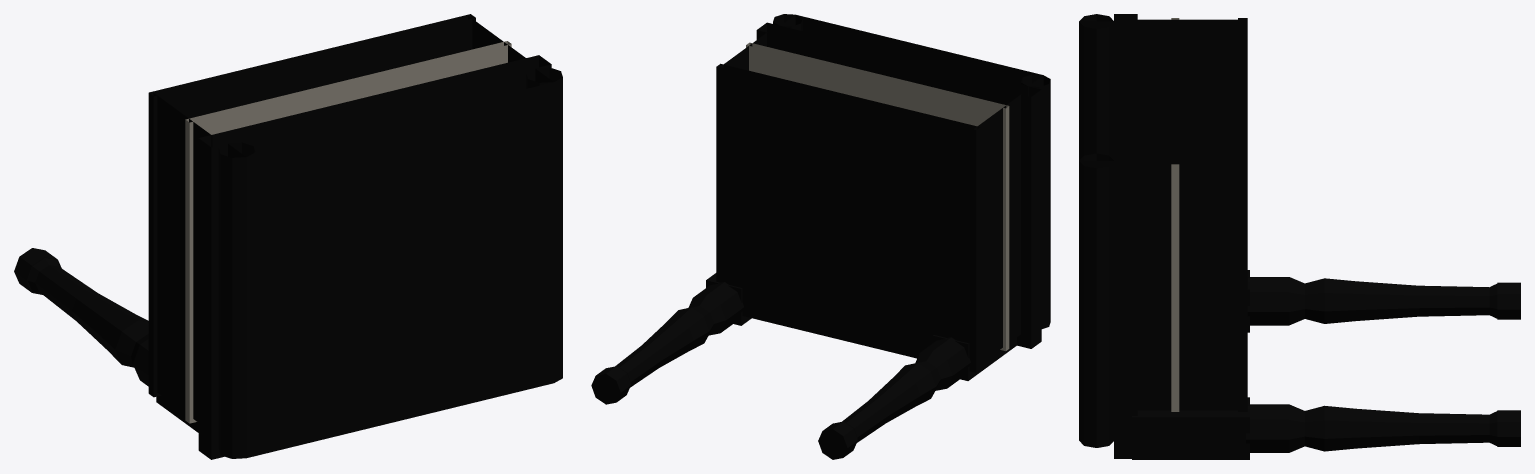
3 renders of one model, left to right at view 1: azimuth 30°, elevation 25°; view 2: azimuth 150°, elevation 25°; view 3: azimuth 270°, elevation 25°, orthographic. The views are drawn at different scales.
Bounding box in the file's own units: 0.4715 × 0.411 × 0.5625.
